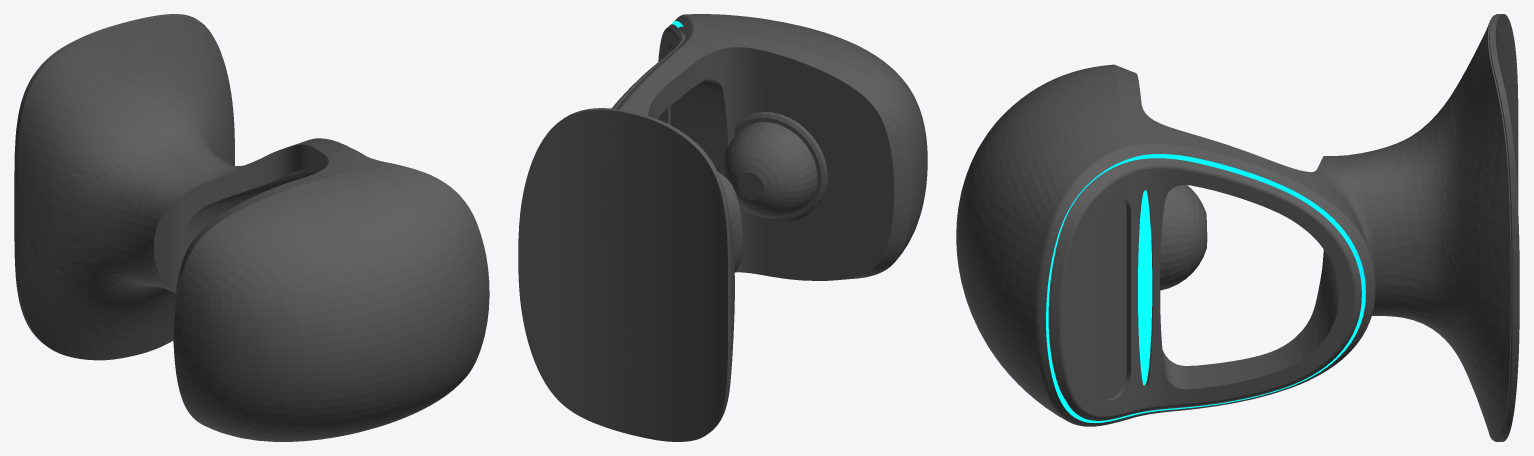
The model's file is head_link.glb.
3 renders of one model, left to right at view 1: azimuth 30°, elevation 25°; view 2: azimuth 150°, elevation 25°; view 3: azimuth 270°, elevation 25°, orthographic. The views are drawn at different scales.
Visible parts, largest first — view 1: head_body; view 2: head_body; view 3: head_body, head_light.
Part boxes in pixels (x1,y1,x2,y2): head_body: [14, 14, 489, 441]; head_body: [518, 14, 927, 441]; head_body: [956, 14, 1519, 441]; head_light: [1046, 154, 1365, 423].
Bounding box in the file's own units: 0.1403 × 0.1556 × 0.2058.
